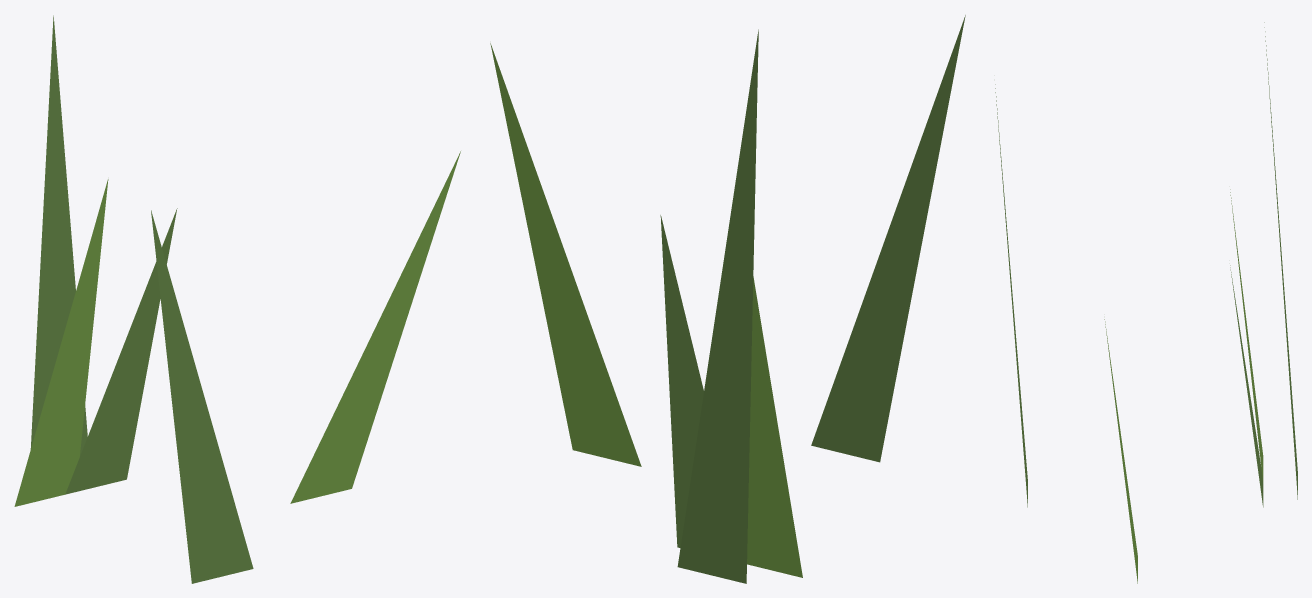
File: grass_field_lod1.obj
3 views of the same model, side by side, from view 1: azimuth 30°, elevation 25°; view 2: azimuth 150°, elevation 25°; view 3: azimuth 270°, elevation 25° (orthographic). The views are drawn at different scales.
Parts seen in each view (by area): view 1: grass_field_lod1; view 2: grass_field_lod1; view 3: grass_field_lod1.
Part boxes in pixels (x1,y1,x2,y2): grass_field_lod1: (14,15,460,583); grass_field_lod1: (490,15,965,583); grass_field_lod1: (995,22,1297,583).
Bounding box in the file's own units: 0.477 × 0.5983 × 0.3569.
1 material, 1 textured.
